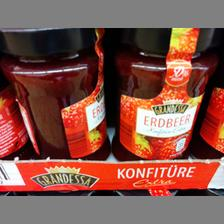Marmelade: (108, 28, 219, 160), (0, 28, 110, 160)
